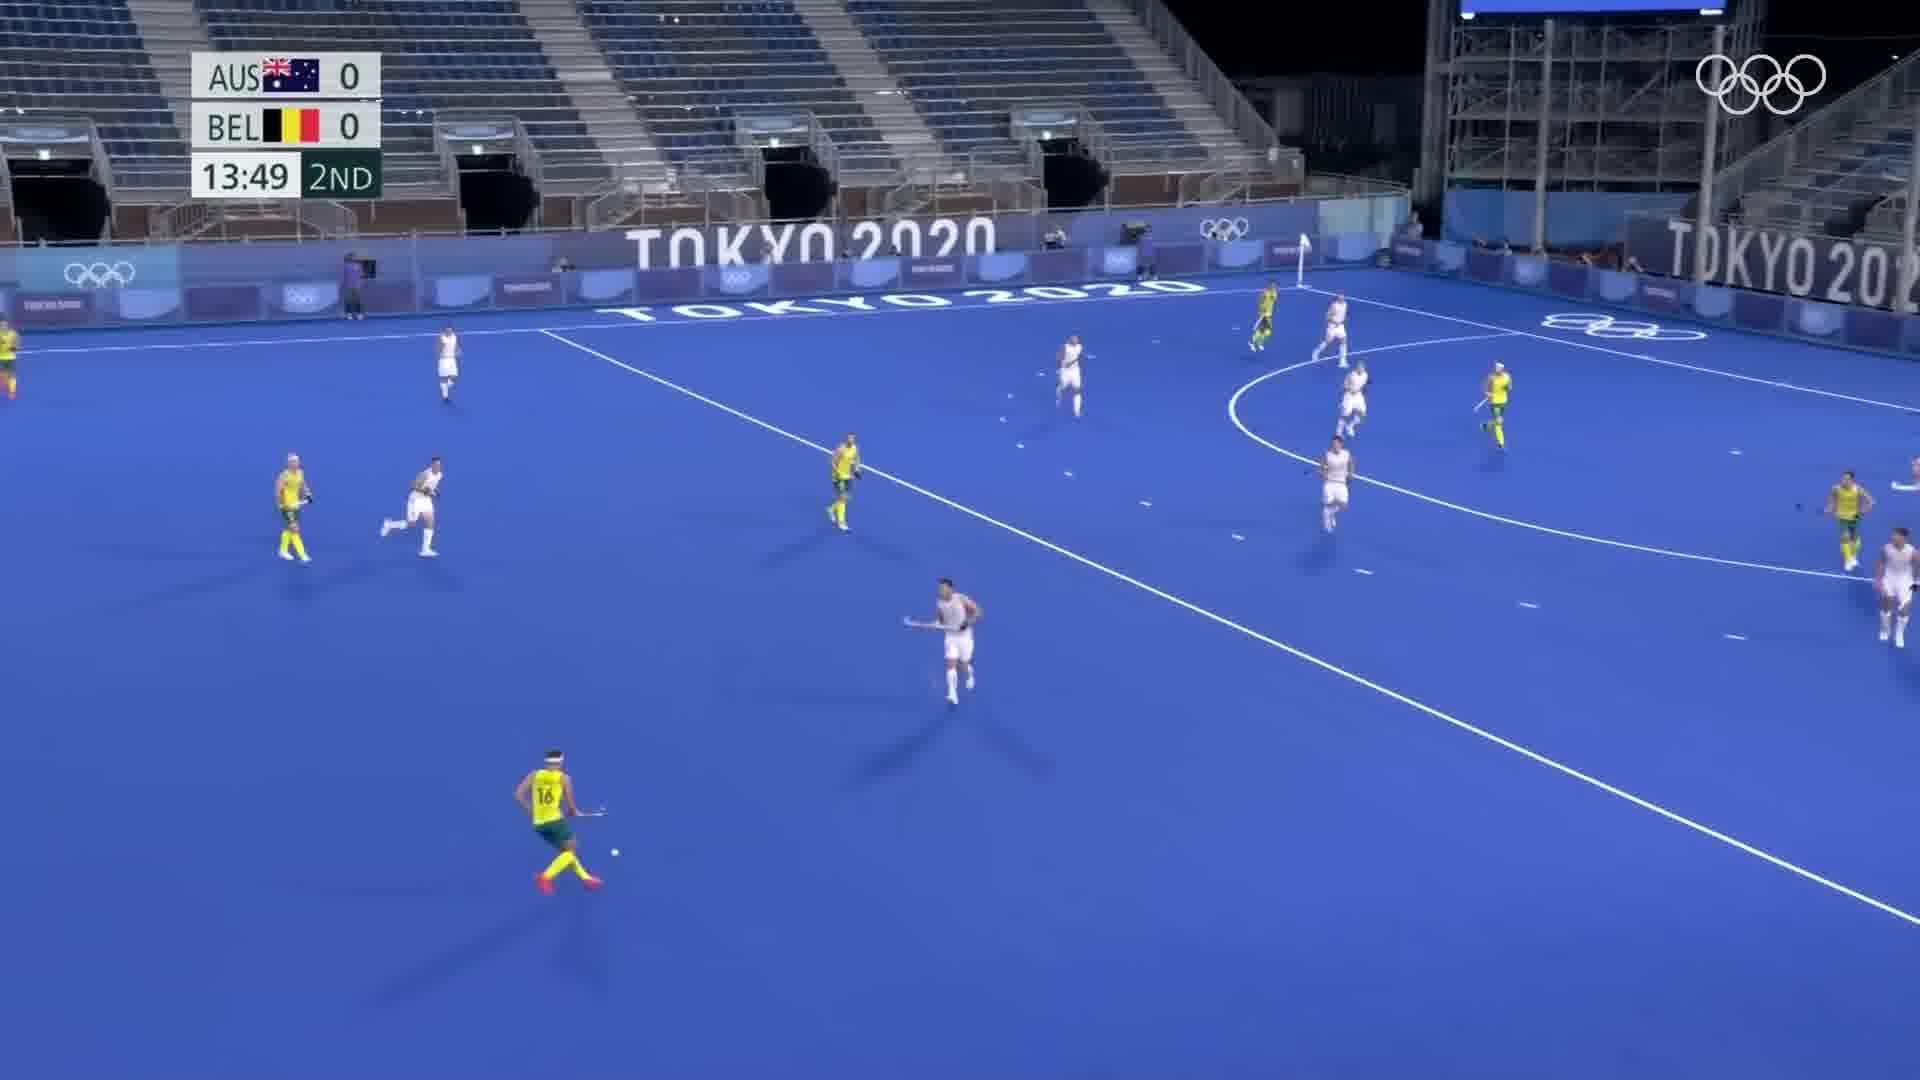ball: (607, 843, 626, 866)
